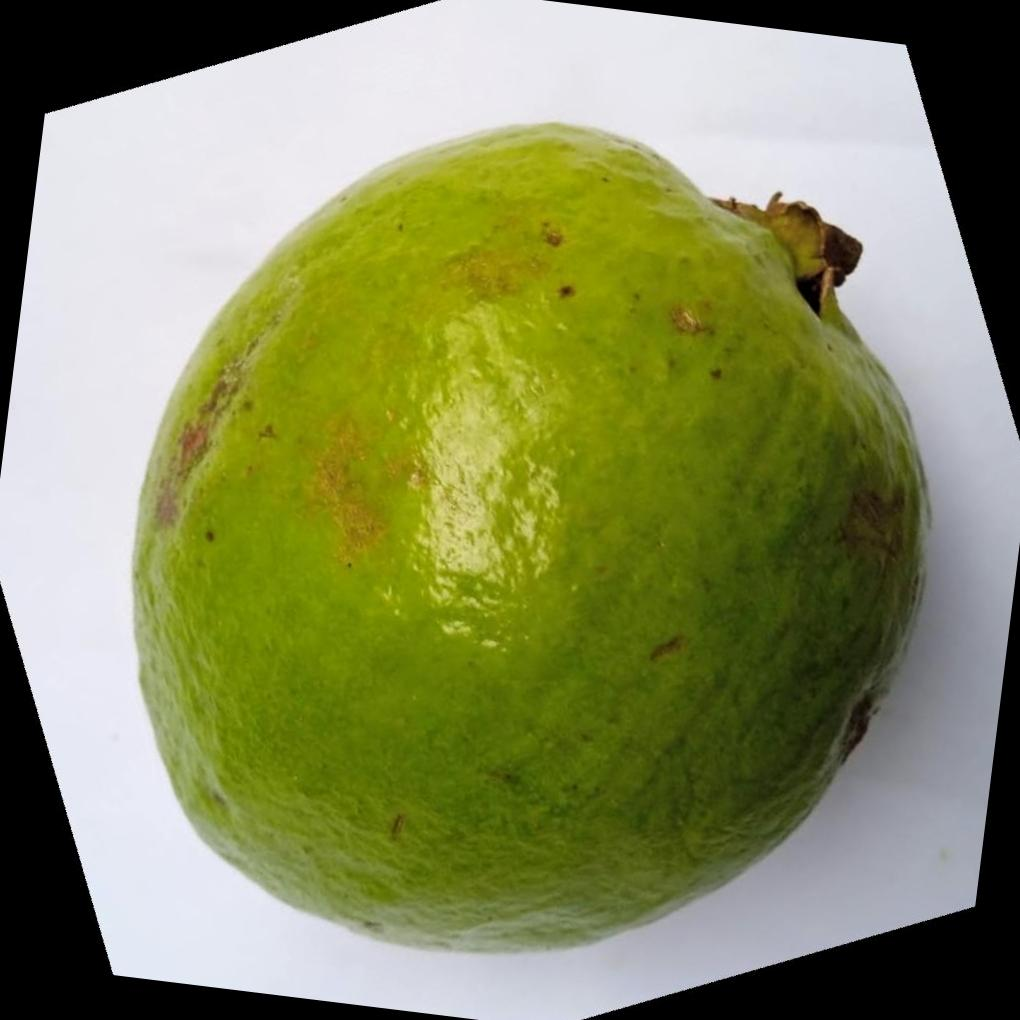FreshGuava: (127, 123, 932, 961)
